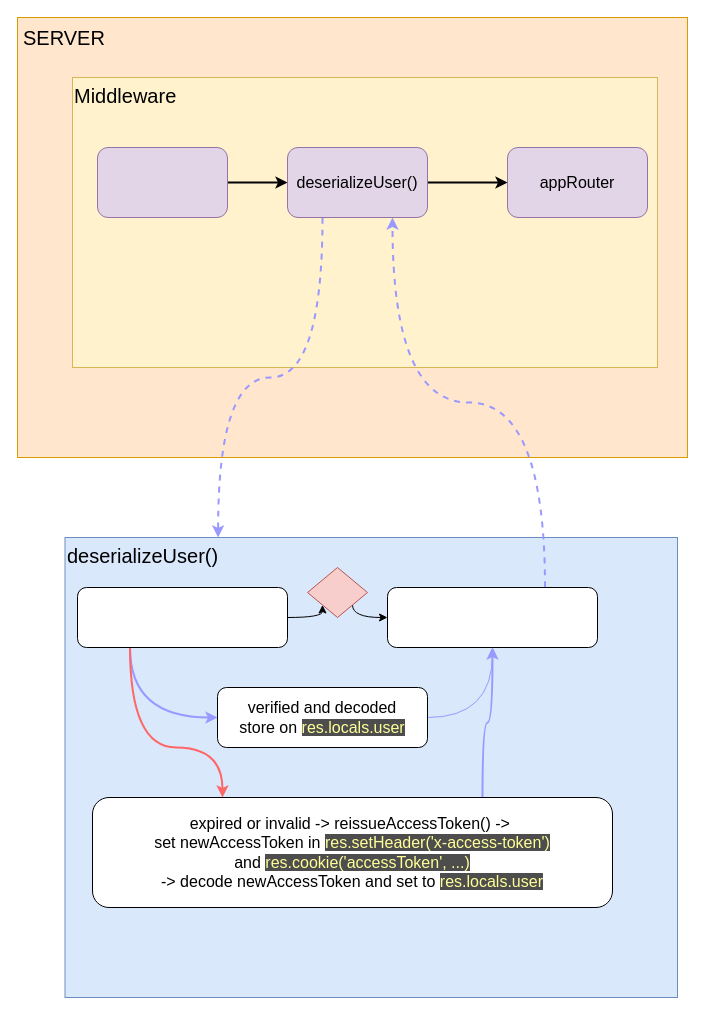
Image size: 705x1015. Some labels were removed from this diagram. The shapes that lost their labels are listed below. From the top down, each one's centre as x and y in pixels, then its label:
point (162, 182): cors -> cookiePArser -> json()
point (337, 592): no token
point (182, 617): get access token get refresh token
point (492, 617): next()
